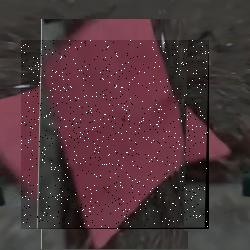restaffald: (21, 40, 209, 229)
